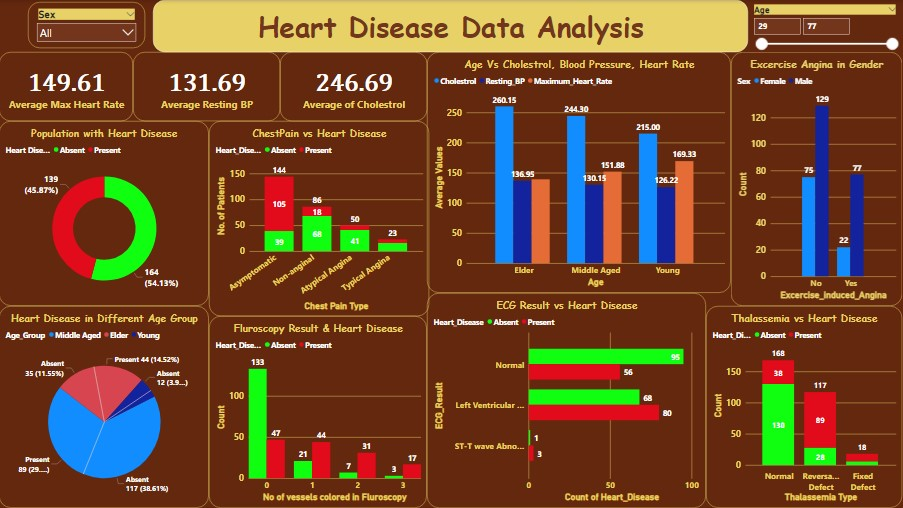

The page's visual inventory and layout, read from the dashboard file:
{"tool":"powerbi","page":{"name":"Dashboard","canvas":[1920,1080],"ordinal":0},"visuals":[{"type":"textbox","box":[327.4,0,1265,110.6],"z":0},{"type":"donutChart","title":"Population with Heart Disease","fields":{"Category":["heart_disease_dataset.Heart_Disease"],"Y":["CountNonNull(heart_disease_dataset.Heart_Disease)"]},"box":[0,257.2,446.5,393.3],"z":1000},{"type":"card","fields":{"Values":["Avg(heart_disease_dataset.Resting_BP)"]},"box":[284.9,110.6,312.5,146.7],"z":2000},{"type":"card","fields":{"Values":["Avg(heart_disease_dataset.Maximum_Heart_Rate)"]},"box":[0,110.6,284.9,146.7],"z":3000},{"type":"card","fields":{"Values":["Avg(heart_disease_dataset.Cholestrol)"]},"box":[597.4,110.6,312.5,146.7],"z":4000},{"type":"slicer","fields":{"Values":["heart_disease_dataset.Age"]},"box":[1592.4,4.3,327.4,187.1],"z":5000},{"type":"slicer","fields":{"Values":["heart_disease_dataset.Sex"]},"box":[61.7,4.3,248.7,97.8],"z":6000},{"type":"columnChart","title":"ChestPain vs Heart Disease","fields":{"Category":["heart_disease_dataset.Chest_Pain_Type"],"Series":["heart_disease_dataset.Heart_Disease"],"Y":["CountNonNull(heart_disease_dataset.Heart_Disease)"]},"box":[446.5,257.2,467.7,414.6],"z":7000},{"type":"clusteredColumnChart","title":"Age Vs Cholestrol, Blood Pressure, Heart Rate","fields":{"Category":["heart_disease_dataset.Age_Group"],"Y":["Avg(heart_disease_dataset.Cholestrol)","Avg(heart_disease_dataset.Resting_BP)","Avg(heart_disease_dataset.Maximum_Heart_Rate)"]},"box":[909.9,110.6,646.3,512.4],"z":8000},{"type":"clusteredColumnChart","title":"Excercise Angina in Gender","fields":{"Category":["heart_disease_dataset.Excercise_induced_Angina"],"Series":["heart_disease_dataset.Sex"],"Y":["CountNonNull(heart_disease_dataset.Heart_Disease)"]},"box":[1556.2,110.6,363.5,540],"z":9000},{"type":"lineClusteredColumnComboChart","title":"Fluroscopy Result & Heart Disease","fields":{"Category":["heart_disease_dataset.ca"],"Y":["CountNonNull(heart_disease_dataset.Heart_Disease)"],"Series":["heart_disease_dataset.Heart_Disease"]},"box":[446.5,671.8,463.5,408.2],"z":10000},{"type":"clusteredBarChart","title":"ECG Result vs Heart Disease ","fields":{"Category":["heart_disease_dataset.ECG_Result"],"Y":["CountNonNull(heart_disease_dataset.Heart_Disease)"],"Series":["heart_disease_dataset.Heart_Disease"]},"box":[909.9,622.9,593.1,457.1],"z":11000},{"type":"pieChart","title":"Heart Disease in Different Age Group","fields":{"Category":["heart_disease_dataset.Age_Group"],"Y":["CountNonNull(heart_disease_dataset.Heart_Disease)"],"Series":["heart_disease_dataset.Heart_Disease"]},"box":[0,650.6,446.5,429.4],"z":12000},{"type":"columnChart","title":"Thalassemia vs Heart Disease","fields":{"Category":["heart_disease_dataset.thal"],"Y":["CountNonNull(heart_disease_dataset.Heart_Disease)"],"Series":["heart_disease_dataset.Heart_Disease"]},"box":[1503.1,650.6,416.7,429.4],"z":13000}]}

Visuals, with their boxes in screenshot pixels (x1, y1, x2, y2), scaled from the page's 1920x1080 canvas onto the 903x508 screenshot:
textbox: bbox=[154, 0, 749, 52]
"Population with Heart Disease" donutChart: bbox=[0, 121, 210, 306]
card - Avg(heart_disease_dataset.Resting_BP): bbox=[134, 52, 281, 121]
card - Avg(heart_disease_dataset.Maximum_Heart_Rate): bbox=[0, 52, 134, 121]
card - Avg(heart_disease_dataset.Cholestrol): bbox=[281, 52, 428, 121]
slicer - heart_disease_dataset.Age: bbox=[749, 2, 902, 90]
slicer - heart_disease_dataset.Sex: bbox=[29, 2, 146, 48]
"ChestPain vs Heart Disease" columnChart: bbox=[210, 121, 430, 316]
"Age Vs Cholestrol, Blood Pressure, Heart Rate" clusteredColumnChart: bbox=[428, 52, 732, 293]
"Excercise Angina in Gender" clusteredColumnChart: bbox=[732, 52, 902, 306]
"Fluroscopy Result & Heart Disease" lineClusteredColumnComboChart: bbox=[210, 316, 428, 507]
"ECG Result vs Heart Disease " clusteredBarChart: bbox=[428, 293, 707, 507]
"Heart Disease in Different Age Group" pieChart: bbox=[0, 306, 210, 507]
"Thalassemia vs Heart Disease" columnChart: bbox=[707, 306, 902, 507]
